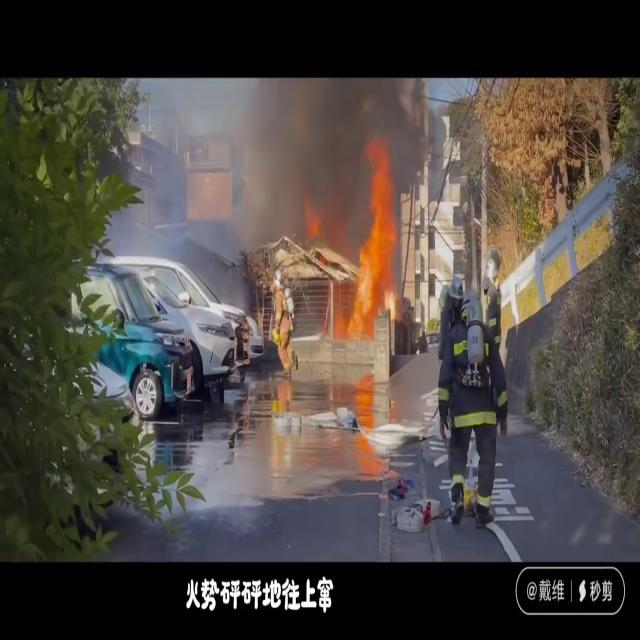Fire: (346, 140, 413, 325)
Smoke: (68, 78, 412, 266)
